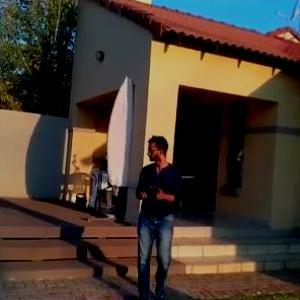follow: (130, 131, 186, 298)
